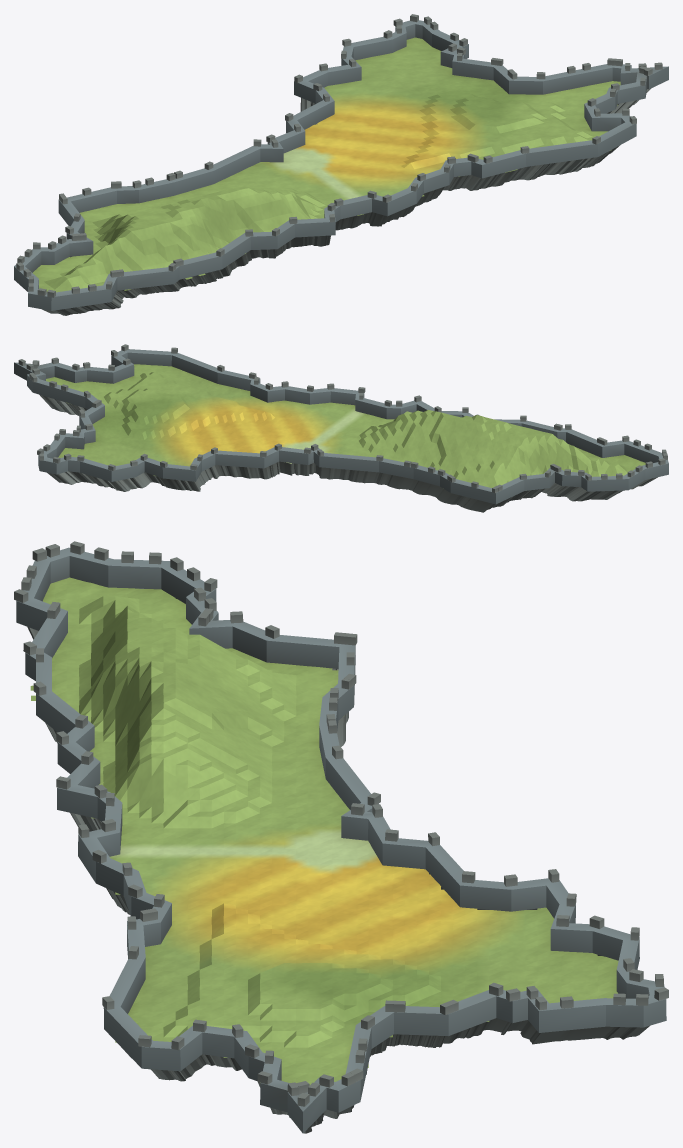
3 views of the same model, one above another, from view 1: azimuth 30°, elevation 25°; view 2: azimuth 150°, elevation 25°; view 3: azimuth 270°, elevation 25° (orthographic). The views are drawn at different scales.
Visible parts, largest first — view 1: ground_147db7ee; view 2: ground_147db7ee; view 3: ground_147db7ee.
Part boxes in pixels (<box>): ground_147db7ee: <box>14,14,668,315</box>; ground_147db7ee: <box>14,344,668,512</box>; ground_147db7ee: <box>14,541,668,1133</box>.
Bounding box in the file's own units: 166 × 12.58 × 81.46.
2 materials, 1 textured.
